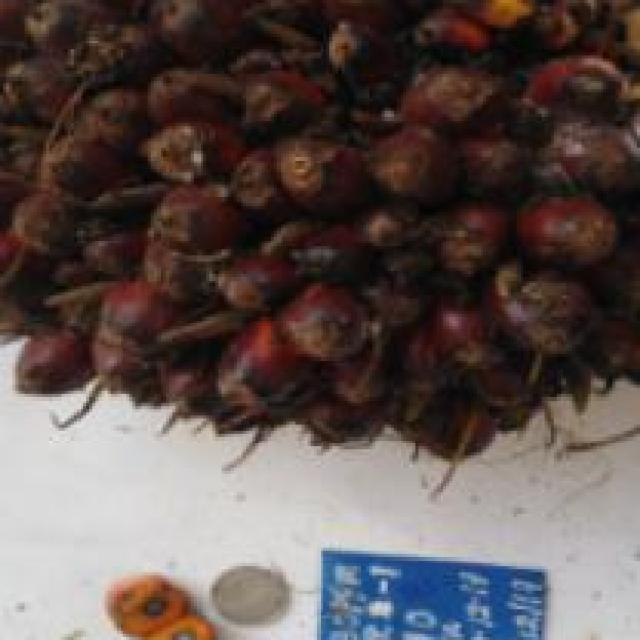underripe: (0, 0, 640, 545)
